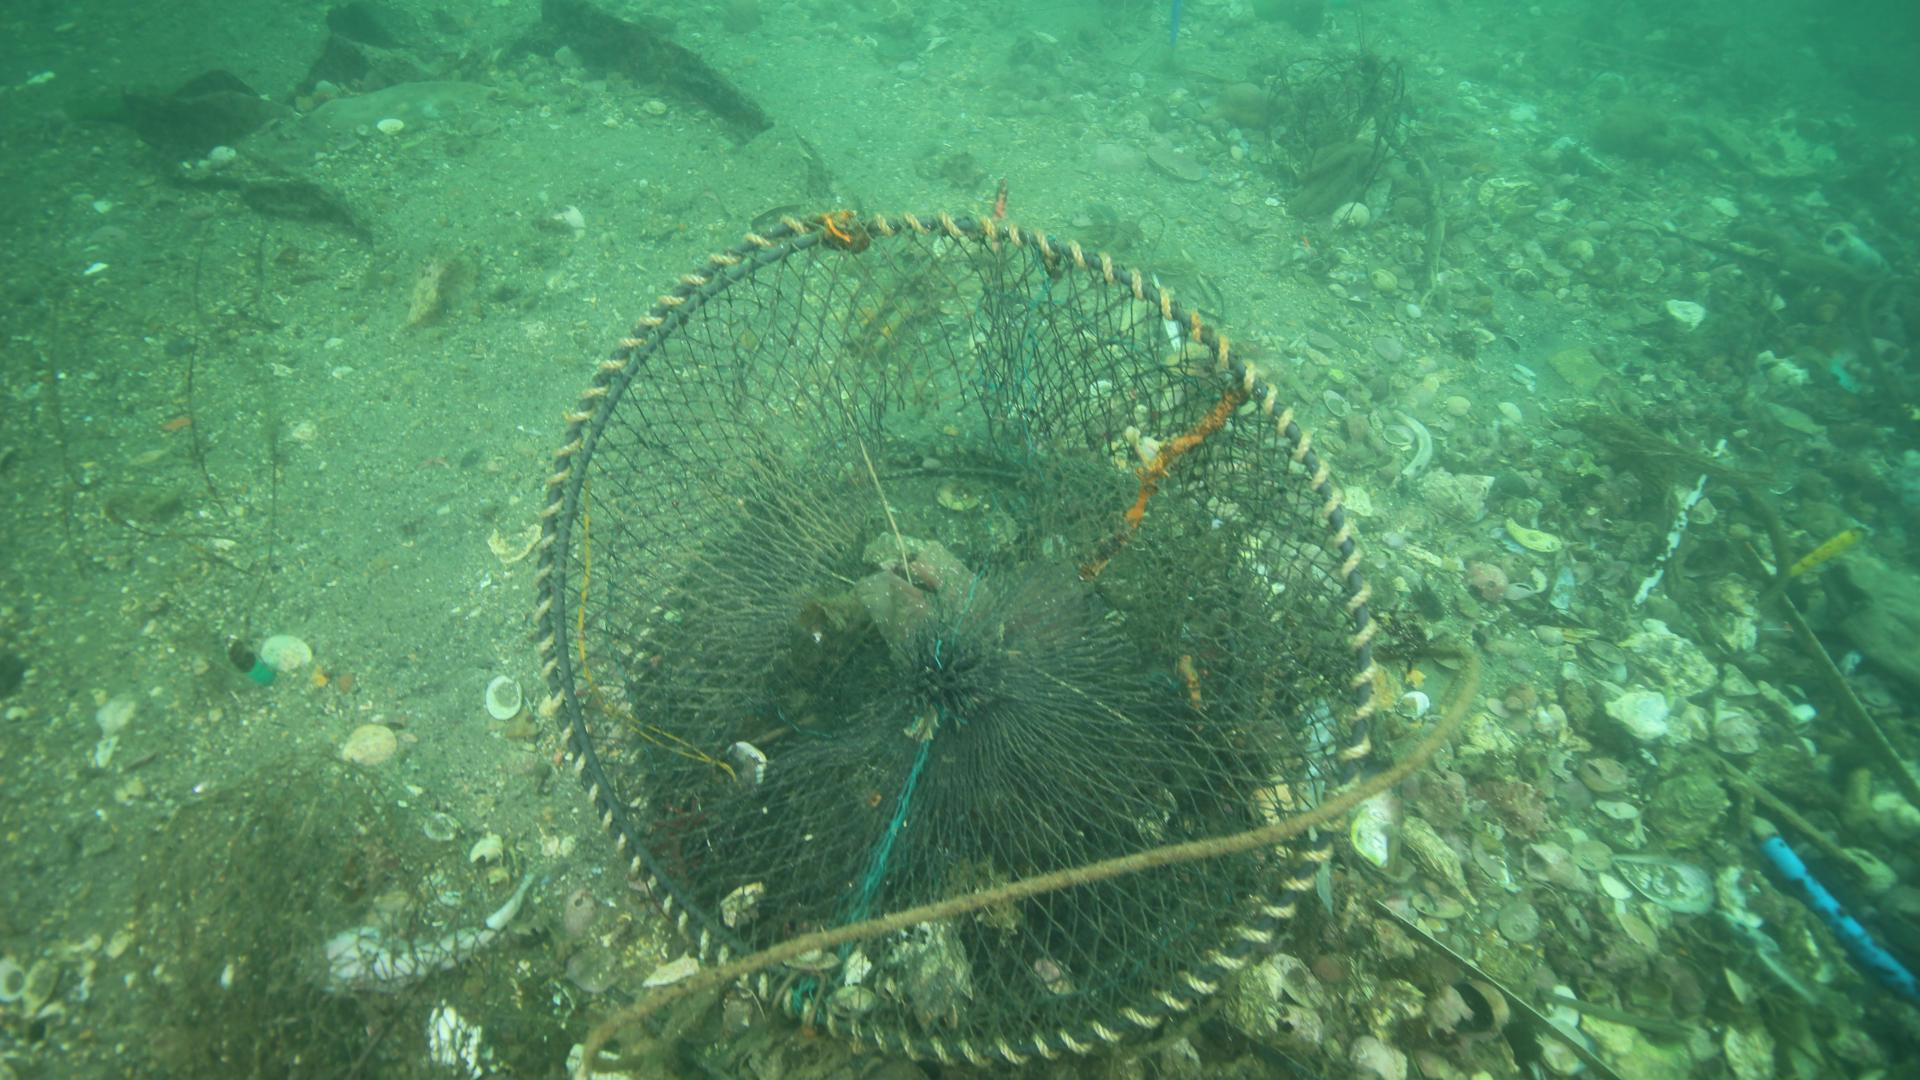circular fish trap: (535, 208, 1379, 1068)
rope: (578, 644, 1478, 1080)
